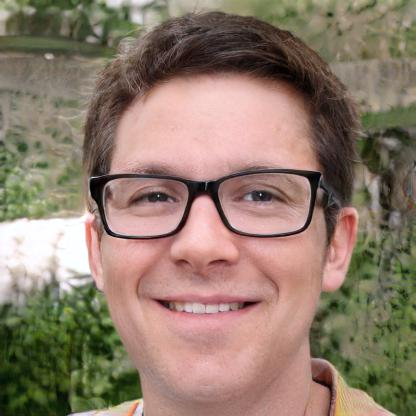glasses: (85, 166, 321, 242)
